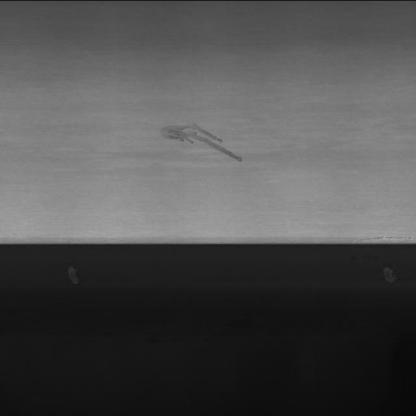water_spot: (149, 114, 257, 164)
